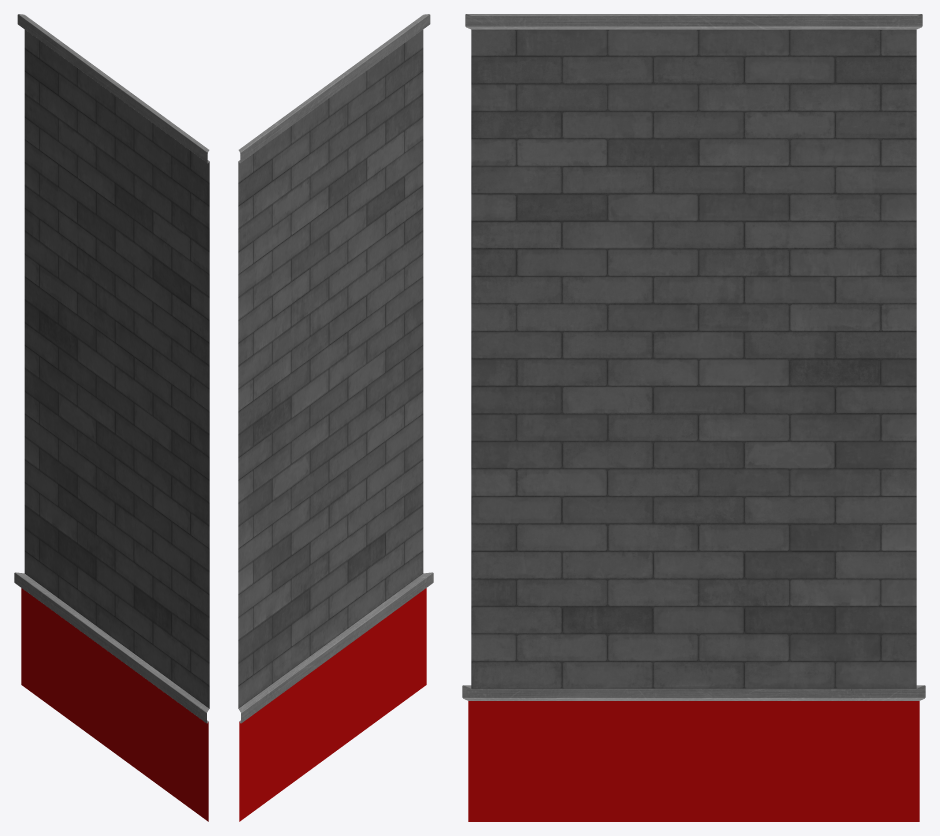
The model's file is SM_Base_150_Empty.fbx.
The picture shows the model from 3 angles, left to right: view 1: azimuth 30°, elevation 25°; view 2: azimuth 150°, elevation 25°; view 3: azimuth 270°, elevation 25°; orthographic projection. The views are drawn at different scales.
Visible parts, largest first — view 1: SM_Base_150_Empty_LOD0; view 2: SM_Base_150_Empty_LOD0; view 3: SM_Base_150_Empty_LOD0.
Boxes of the visible parts, x1,y1,x2,y2 form: SM_Base_150_Empty_LOD0: (14, 14, 209, 821); SM_Base_150_Empty_LOD0: (238, 14, 433, 821); SM_Base_150_Empty_LOD0: (462, 14, 925, 821).
Bounding box in the file's own units: 3 × 156 × 300.
